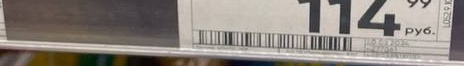1d: (197, 28, 353, 53)
